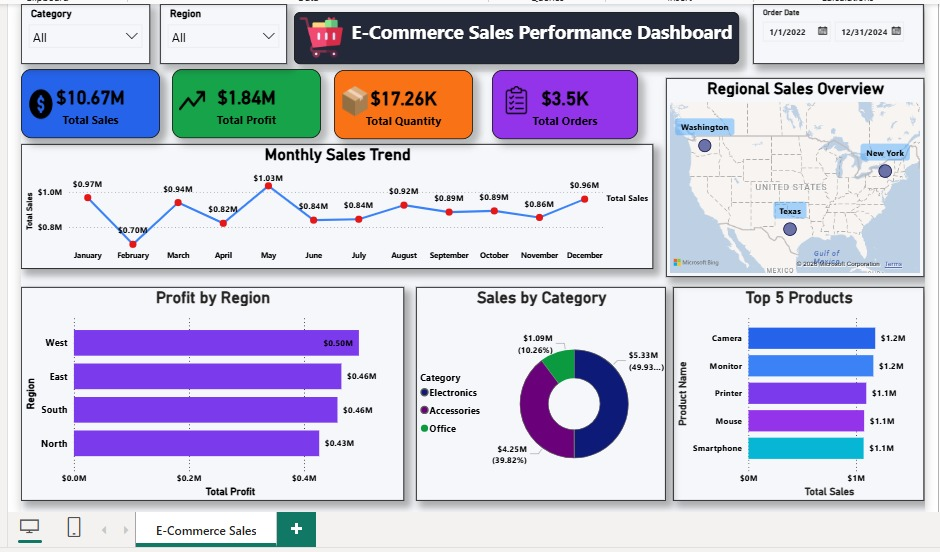

This screenshot's page, from the dashboard's own definition file:
{"tool":"powerbi","page":{"name":"E-Commerce Sales","canvas":[1280,720],"ordinal":0},"visuals":[{"type":"card","fields":{"Values":["Sales.Total Sales"]},"box":[0,92.1,197,97.8],"z":0},{"type":"textbox","box":[386.9,11.3,630.7,73.7],"z":1000},{"type":"card","fields":{"Values":["Sales.Total Profit"]},"box":[214,92.1,211.2,97.8],"z":2000},{"type":"card","fields":{"Values":["Sales.Total Quantity"]},"box":[443.6,93.5,197,97.8],"z":3000},{"type":"card","fields":{"Values":["Sales.Total Orders"]},"box":[667.6,93.5,206.9,97.8],"z":4000},{"type":"lineChart","title":" Monthly Sales Trend","fields":{"Y":["Sales.Total Sales"],"Category":["Sales.Order Date.Variation.Date Hierarchy.Month"]},"box":[0,198.4,895.7,177.2],"z":5000},{"type":"donutChart","title":"Sales by Category","fields":{"Y":["Sales.Total Sales"],"Category":["Sales.Category"]},"box":[559.8,401.1,354.3,303.3],"z":6000},{"type":"clusteredBarChart","title":"Profit by Region","fields":{"Category":["Sales.Region"],"Y":["Sales.Total Profit"]},"box":[0,401.1,542.8,303.3],"z":7000},{"type":"clusteredBarChart","title":"Top 5 Products ","fields":{"Category":["Sales.Product Name"],"Y":["Sales.Total Sales"]},"box":[924.1,401.1,355.7,303.3],"z":8000},{"type":"slicer","fields":{"Values":["Sales.Region"]},"box":[197,0,180,85],"z":9000},{"type":"slicer","fields":{"Values":["Sales.Category"]},"box":[0,0,182.8,85],"z":10000},{"type":"slicer","fields":{"Values":["Sales.Order Date"]},"box":[1037.5,0,242.4,85],"z":11000},{"type":"map","title":"Regional Sales Overview","fields":{"Category":["Sales.Location"],"Size":["Sales.Total Sales"]},"box":[914.2,104.9,365.7,282],"z":12000},{"type":"image","box":[223.9,113.4,36.9,46.8],"z":13000},{"type":"image","box":[5.7,113.4,45.4,56.7],"z":14000},{"type":"image","box":[455,116.2,36.9,42.5],"z":15000},{"type":"image","box":[683.1,116.2,38.3,39.7],"z":16000},{"type":"image","box":[377,17,96.4,60.9],"z":17000}]}

Visuals, with their boxes in screenshot pixels (x1, y1, x2, y2):
card - Sales.Total Sales: rect(27, 69, 165, 138)
textbox: rect(297, 13, 738, 64)
card - Sales.Total Profit: rect(176, 69, 324, 138)
card - Sales.Total Quantity: rect(337, 70, 474, 139)
card - Sales.Total Orders: rect(493, 70, 638, 139)
" Monthly Sales Trend" lineChart: rect(27, 143, 653, 267)
"Sales by Category" donutChart: rect(418, 285, 665, 497)
"Profit by Region" clusteredBarChart: rect(27, 285, 406, 497)
"Top 5 Products " clusteredBarChart: rect(672, 285, 921, 497)
slicer - Sales.Region: rect(165, 5, 290, 64)
slicer - Sales.Category: rect(27, 5, 155, 64)
slicer - Sales.Order Date: rect(752, 5, 921, 64)
"Regional Sales Overview" map: rect(666, 78, 921, 275)
image: rect(183, 84, 209, 117)
image: rect(31, 84, 63, 124)
image: rect(345, 86, 371, 116)
image: rect(504, 86, 531, 114)
image: rect(290, 17, 358, 59)
